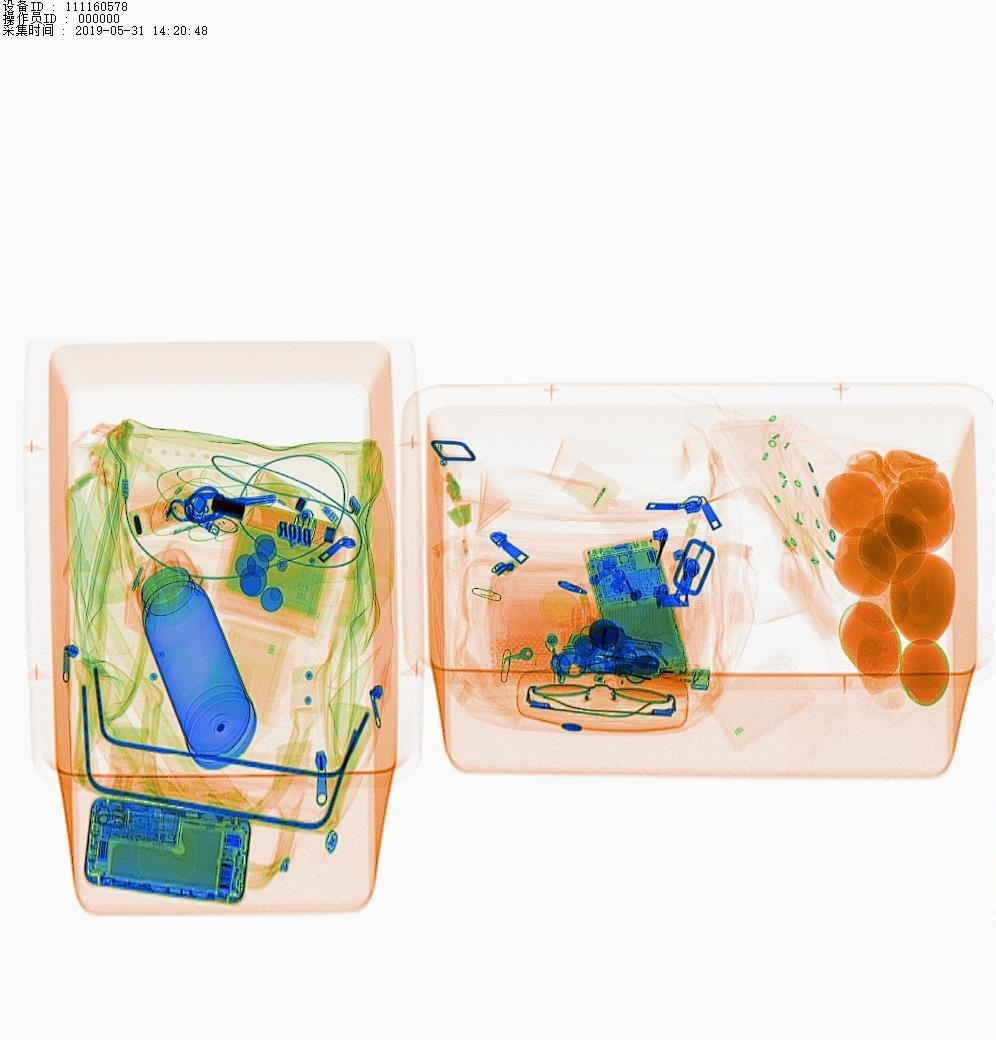NonmetallicFire: (627, 659, 729, 701)
